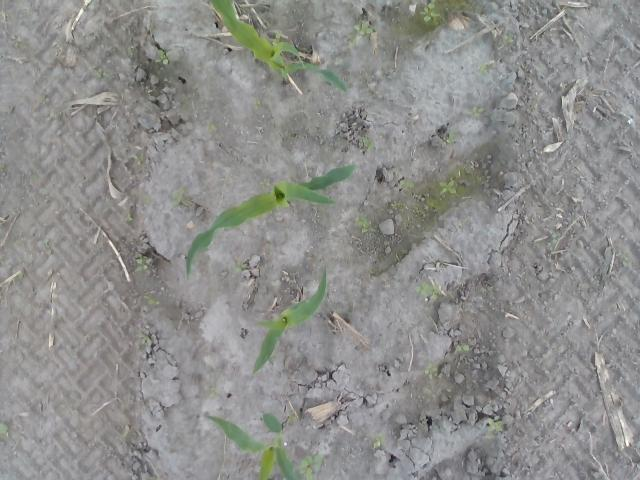Maize: (185, 164, 355, 280), (211, 1, 350, 93), (251, 268, 328, 375), (198, 411, 300, 479)
Weeds: (295, 456, 327, 478), (487, 414, 505, 440), (414, 284, 438, 301), (420, 4, 440, 24), (358, 216, 378, 234), (172, 186, 187, 210), (354, 21, 372, 36), (440, 181, 458, 196), (371, 433, 385, 451), (398, 178, 414, 192), (137, 257, 151, 273), (156, 50, 170, 64), (446, 135, 460, 149), (425, 364, 437, 380), (93, 69, 112, 79), (362, 138, 374, 152), (146, 298, 160, 310), (138, 334, 152, 346), (470, 108, 483, 118), (504, 32, 514, 44), (0, 422, 7, 436), (456, 345, 470, 352), (480, 64, 490, 73), (122, 426, 130, 437), (133, 155, 142, 164), (125, 214, 132, 222)
